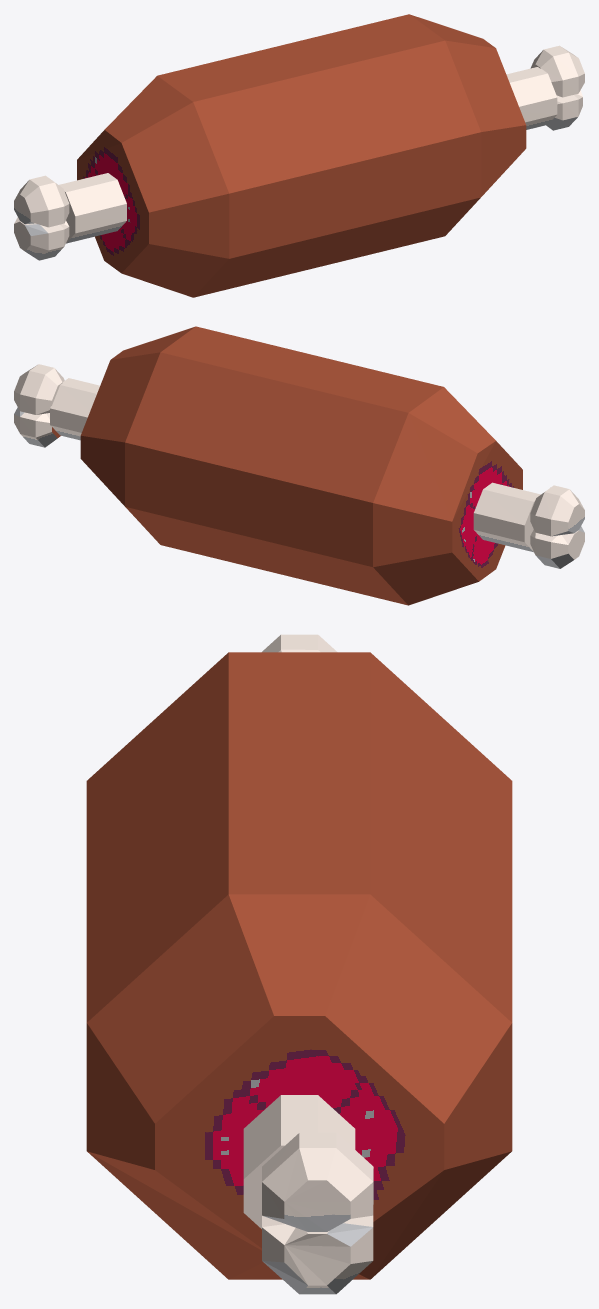
The model's file is food_meat.glb.
3 renders of one model, top to bottom at view 1: azimuth 30°, elevation 25°; view 2: azimuth 150°, elevation 25°; view 3: azimuth 270°, elevation 25°, orthographic. The views are drawn at different scales.
Parts seen in each view (by area): view 1: picocad; view 2: picocad; view 3: picocad.
Part boxes in pixels (x1,y1,x2,y2): picocad: (14, 14, 584, 297); picocad: (14, 326, 584, 605); picocad: (86, 634, 512, 1294).
Size of the model in its own units: 7 by 2.34 by 2.34.
Materials: 1 (1 with a texture image).
